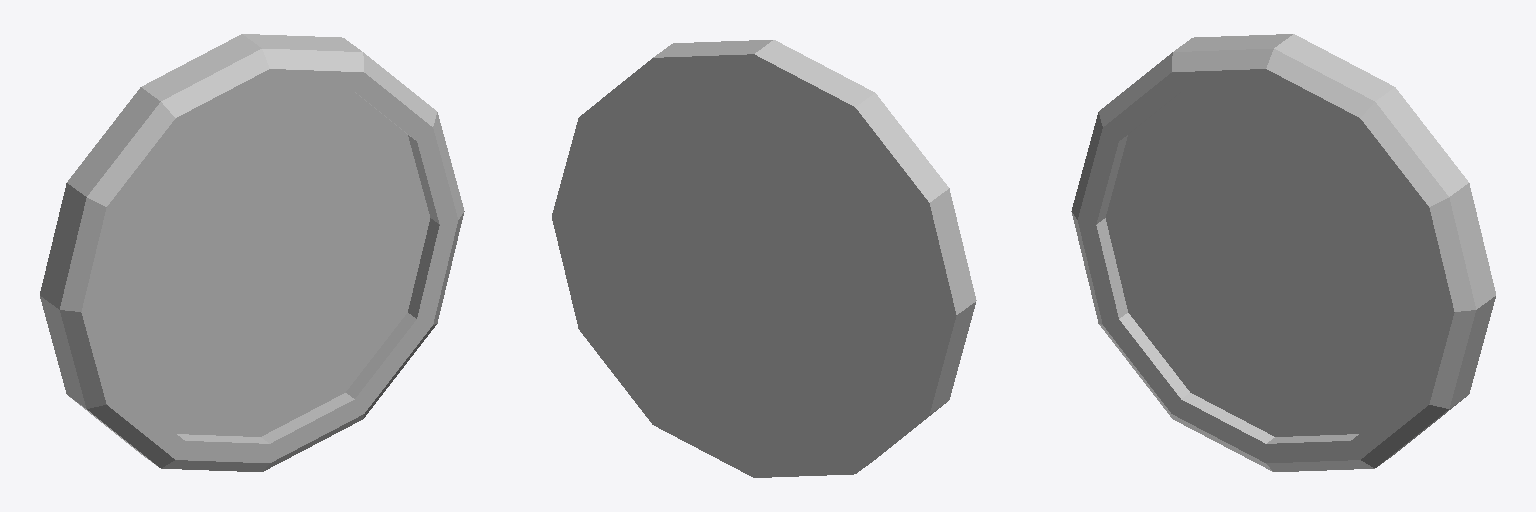
The model's file is Clock.obj.
3 renders of one model, left to right at view 1: azimuth 30°, elevation 25°; view 2: azimuth 150°, elevation 25°; view 3: azimuth 330°, elevation 25°, orthographic.
Parts seen in each view (by area): view 1: Clock; view 2: Clock; view 3: Clock.
Part boxes in pixels (x1,y1,x2,y2): Clock: (40, 34, 464, 471); Clock: (552, 40, 976, 477); Clock: (1071, 34, 1495, 471).
Bounding box in the file's own units: 0.4 × 0.4 × 0.0476.